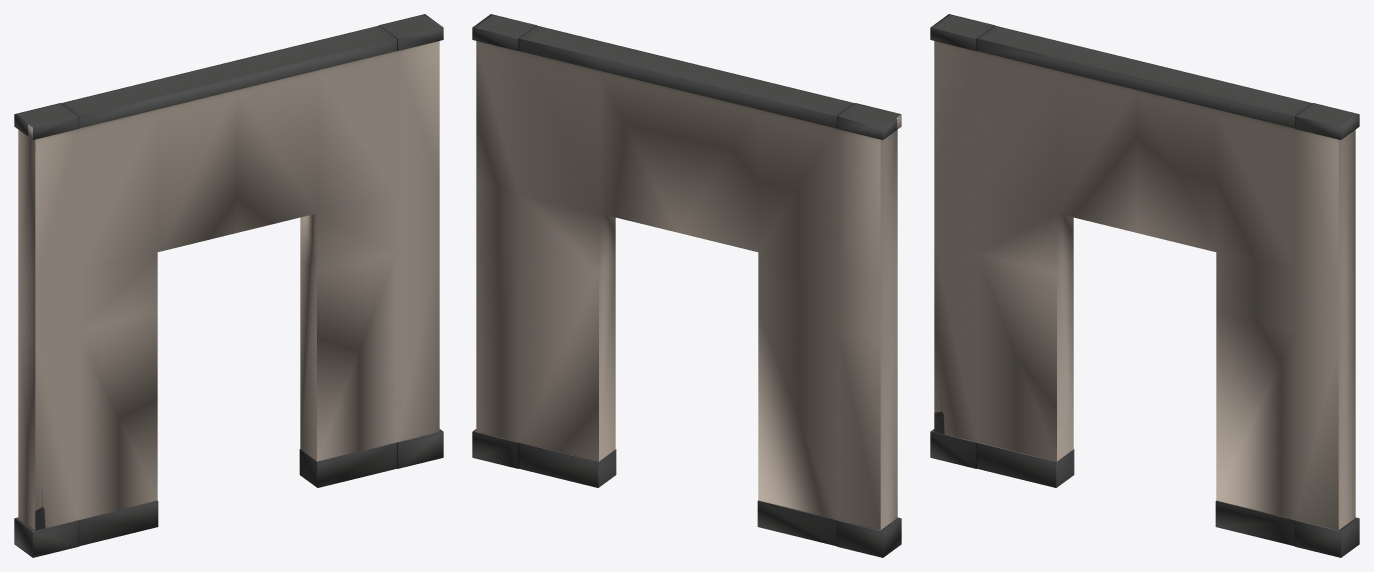
File: ENV_Wall_DoorFrame_v001.fbx
3 views of the same model, side by side, from view 1: azimuth 30°, elevation 25°; view 2: azimuth 150°, elevation 25°; view 3: azimuth 330°, elevation 25° (orthographic).
Parts seen in each view (by area): view 1: 큐브.001; view 2: 큐브.001; view 3: 큐브.001.
Boxes of the visible parts, bbox=[...] form: 큐브.001: bbox=[14, 14, 443, 557]; 큐브.001: bbox=[472, 14, 901, 557]; 큐브.001: bbox=[930, 14, 1359, 557].
Bounding box in the file's own units: 400 × 400 × 31.59.
1 material, 1 textured.
